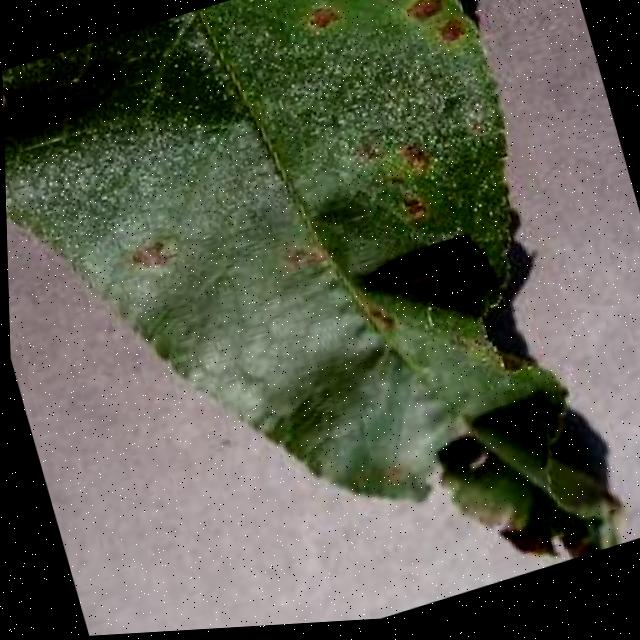Bacterial_spot: (365, 117, 466, 240), (114, 204, 200, 293), (276, 208, 357, 297), (387, 0, 480, 75), (294, 0, 359, 52), (375, 448, 424, 506), (319, 0, 419, 11)
